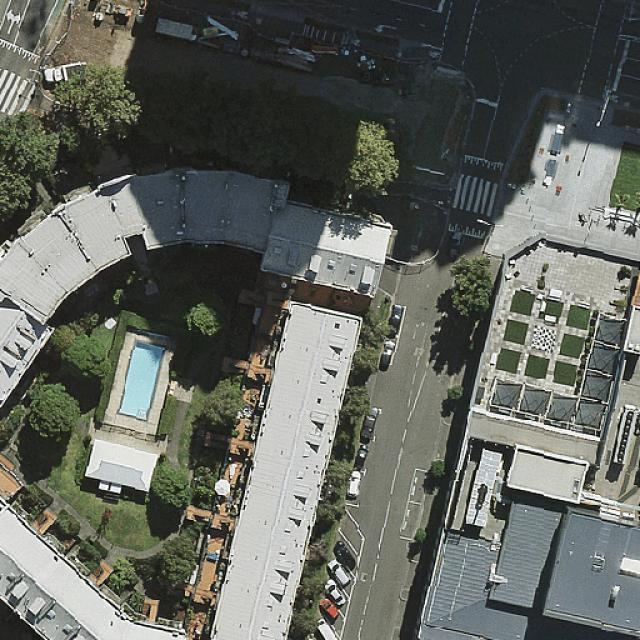Bike-Symbols: (427, 50, 440, 59), (609, 95, 620, 103)
